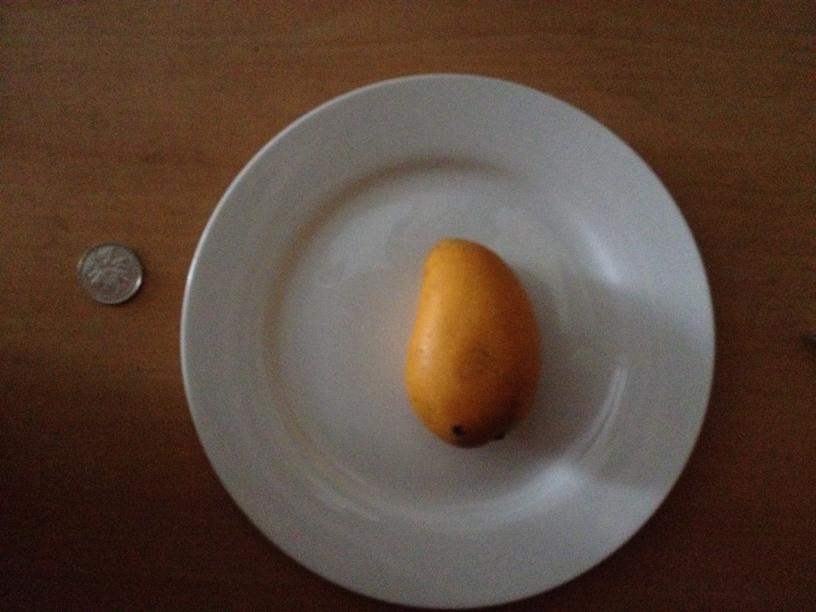coin: (79, 242, 140, 305)
mango: (401, 236, 538, 445)
